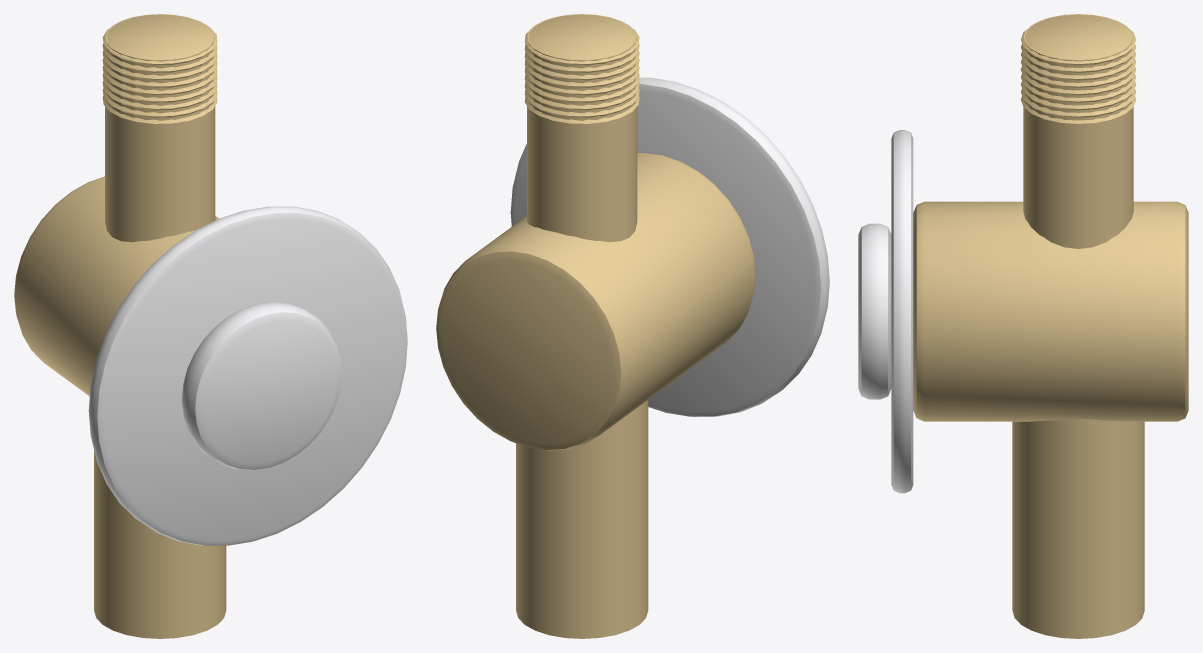
The model's file is HID-MET-004.glb.
3 views of the same model, side by side, from view 1: azimuth 30°, elevation 25°; view 2: azimuth 150°, elevation 25°; view 3: azimuth 270°, elevation 25° (orthographic).
Parts seen in each view (by area): view 1: HID-MET-004_espelho, HID-MET-004_botao, HID-MET-004_corpo, HID-MET-004_entrada, HID-MET-004_saida, HID-MET-004_rosca; view 2: HID-MET-004_corpo, HID-MET-004_espelho, HID-MET-004_saida, HID-MET-004_entrada, HID-MET-004_rosca; view 3: HID-MET-004_corpo, HID-MET-004_saida, HID-MET-004_entrada, HID-MET-004_rosca, HID-MET-004_espelho, HID-MET-004_botao.
Boxes of the visible parts, x1=… form: HID-MET-004_espelho: x1=88, y1=206, x2=407, y2=545; HID-MET-004_botao: x1=182, y1=302, x2=341, y2=470; HID-MET-004_corpo: x1=14, y1=176, x2=218, y2=395; HID-MET-004_entrada: x1=105, y1=14, x2=215, y2=242; HID-MET-004_saida: x1=94, y1=450, x2=226, y2=638; HID-MET-004_rosca: x1=102, y1=14, x2=217, y2=123; HID-MET-004_corpo: x1=436, y1=153, x2=755, y2=450; HID-MET-004_espelho: x1=510, y1=77, x2=829, y2=416; HID-MET-004_saida: x1=516, y1=400, x2=648, y2=638; HID-MET-004_entrada: x1=527, y1=14, x2=637, y2=242; HID-MET-004_rosca: x1=524, y1=14, x2=639, y2=123; HID-MET-004_corpo: x1=913, y1=201, x2=1188, y2=421; HID-MET-004_saida: x1=1012, y1=419, x2=1144, y2=638; HID-MET-004_entrada: x1=1023, y1=14, x2=1133, y2=248; HID-MET-004_rosca: x1=1020, y1=14, x2=1136, y2=123; HID-MET-004_espelho: x1=891, y1=130, x2=913, y2=493; HID-MET-004_botao: x1=858, y1=223, x2=891, y2=399.
Bounding box in the file's own units: 0.132 × 0.23 × 0.12.
